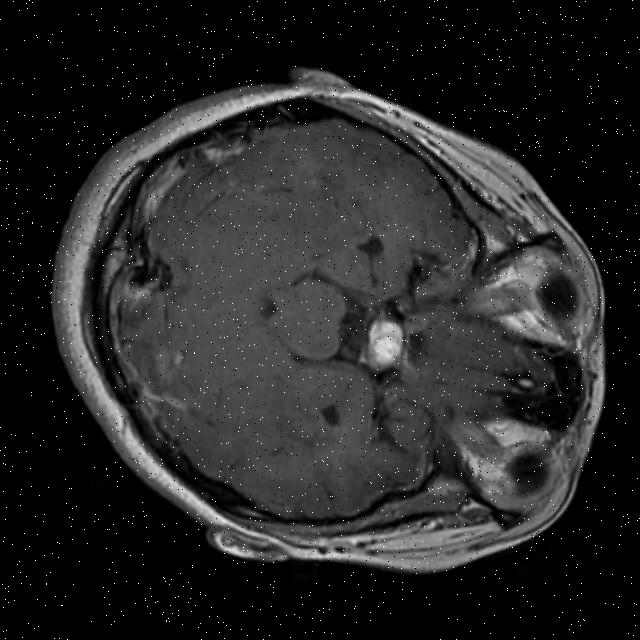Pituitary: (355, 312, 410, 381)
